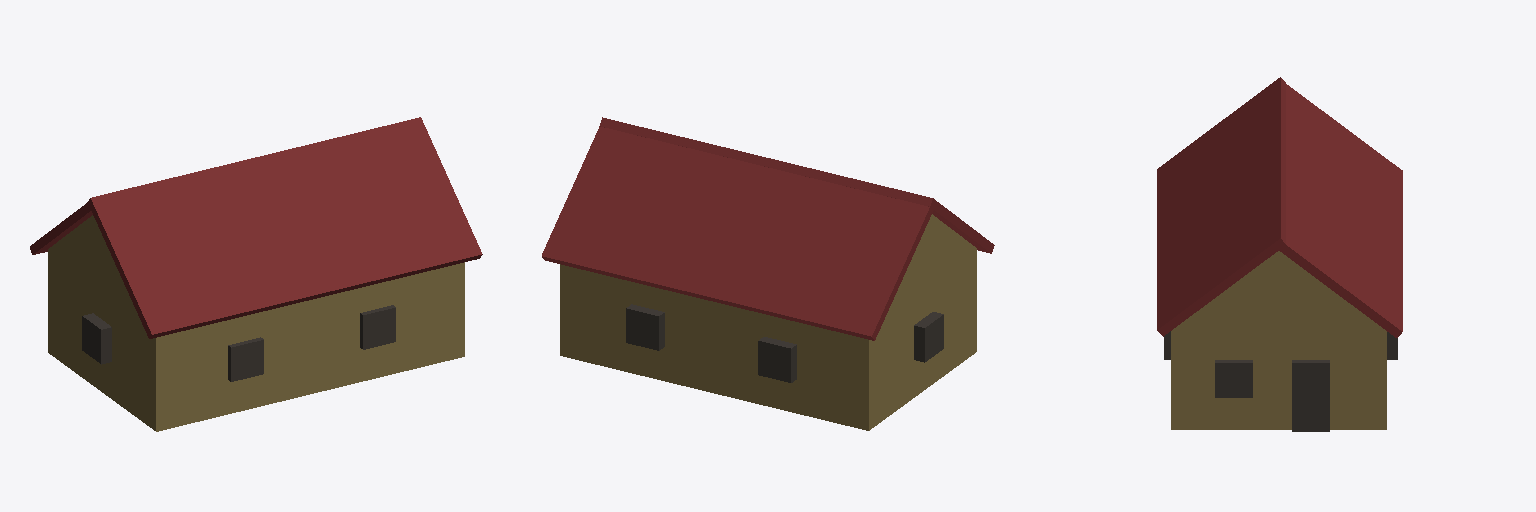
File: house_east.obj
3 views of the same model, side by side, from view 1: azimuth 30°, elevation 25°; view 2: azimuth 150°, elevation 25°; view 3: azimuth 270°, elevation 25° (orthographic).
Parts seen in each view (by area): view 1: mesh[number redacted]; view 2: mesh[number redacted]; view 3: mesh[number redacted].
Boxes of the visible parts, x1=… form: mesh[number redacted]: x1=30, y1=117, x2=482, y2=431; mesh[number redacted]: x1=542, y1=117, x2=994, y2=430; mesh[number redacted]: x1=1157, y1=77, x2=1402, y2=431.
Size of the model in its own units: 1 by 0.5687 by 0.6437.